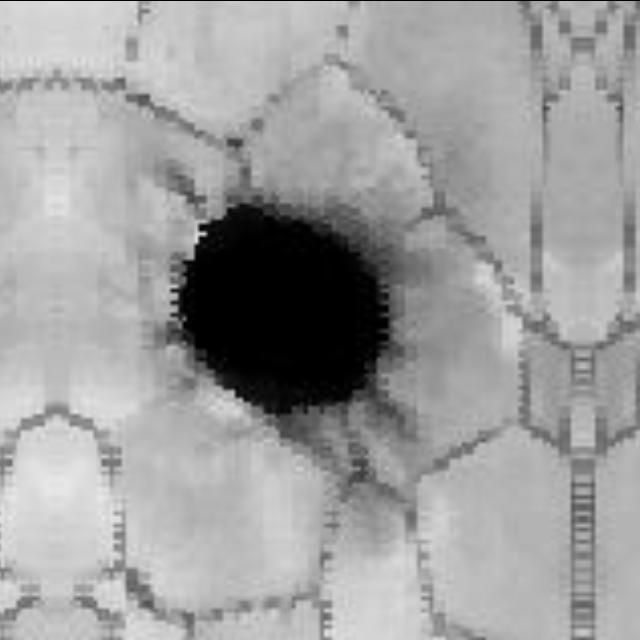good_void: (155, 158, 422, 452)
